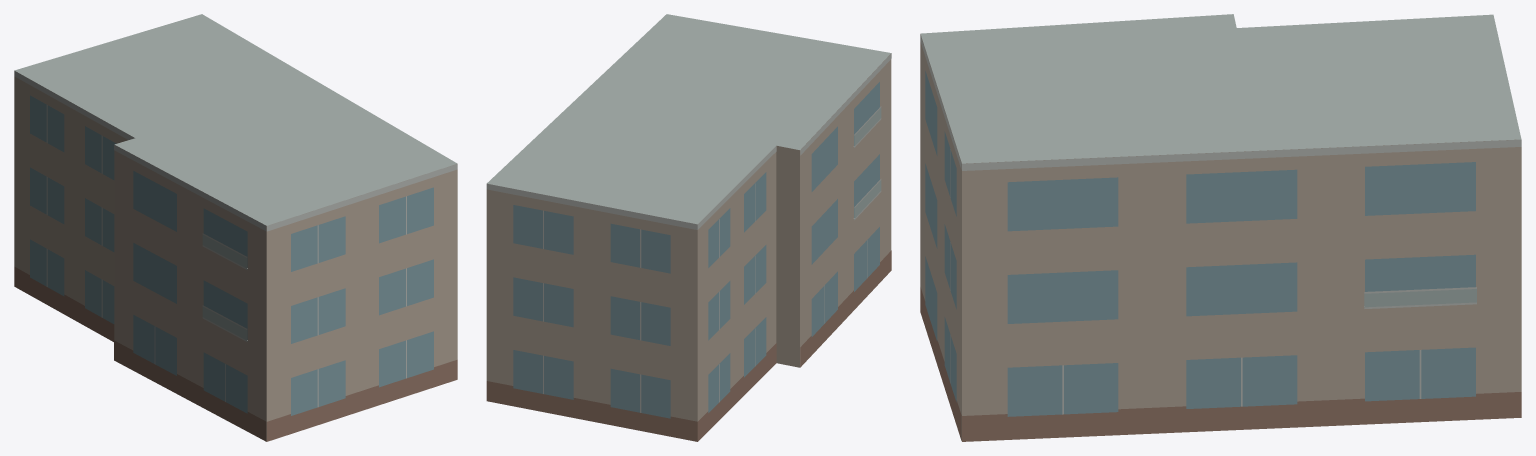
File: survey-upis-32911851.glb
3 views of the same model, side by side, from view 1: azimuth 30°, elevation 25°; view 2: azimuth 150°, elevation 25°; view 3: azimuth 270°, elevation 25° (orthographic). The views are drawn at different scales.
Parts seen in each view (by area): view 1: survey-upis-32911851.tmp; view 2: survey-upis-32911851.tmp; view 3: survey-upis-32911851.tmp.
Part boxes in pixels (box(x1,y1,x2,y2)): survey-upis-32911851.tmp: box(14, 14, 457, 441); survey-upis-32911851.tmp: box(486, 14, 891, 441); survey-upis-32911851.tmp: box(920, 14, 1521, 441).
Bounding box in the file's own units: 10.56 × 9.15 × 17.93.
